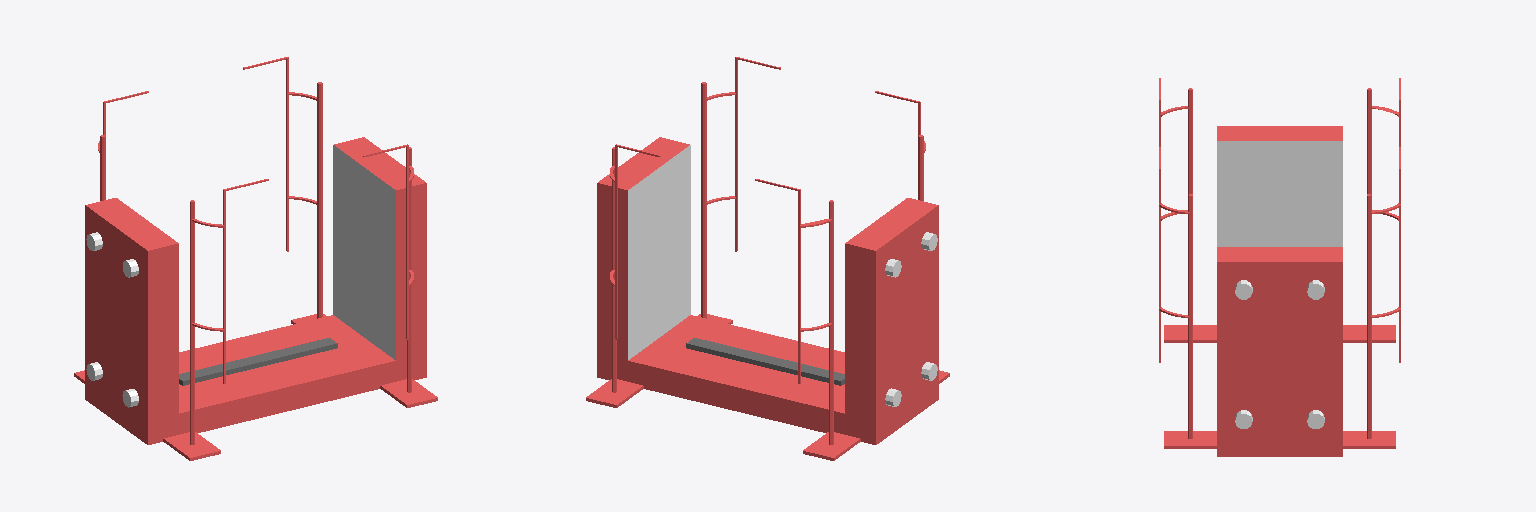
Rendered from 载货台.obj.
3 renders of one model, left to right at view 1: azimuth 30°, elevation 25°; view 2: azimuth 150°, elevation 25°; view 3: azimuth 270°, elevation 25°, orthographic.
Parts seen in each view (by area): view 1: Mesh27 XIANG10_1 ___20_1 Model, Mesh1 Box18450_1 ___20_1 Model, Mesh15 XIANG10_1 ___20_1 Model, Mesh19 XIANG10_1 ___20_1 Model, Mesh20 XIANG10_1 ___20_1 Model, Mesh24 XIANG10_1 ___20_1 Model, Mesh23 XIANG10_1 ___20_1 Model, Mesh30 Object180_1 ___20_1 Model, Mesh28 Object182_1 ___20_1 Model, Mesh10 Object179_1 ___20_1 Model; view 2: Mesh27 XIANG10_1 ___20_1 Model, Mesh1 Box18450_1 ___20_1 Model, Mesh23 XIANG10_1 ___20_1 Model, Mesh11 XIANG10_1 ___20_1 Model, Mesh12 XIANG10_1 ___20_1 Model, Mesh16 XIANG10_1 ___20_1 Model, Mesh15 XIANG10_1 ___20_1 Model, Mesh28 Object182_1 ___20_1 Model, Mesh30 Object180_1 ___20_1 Model, Mesh29 Object181_1 ___20_1 Model; view 3: Mesh27 XIANG10_1 ___20_1 Model, Mesh15 XIANG10_1 ___20_1 Model, Mesh23 XIANG10_1 ___20_1 Model, Mesh16 XIANG10_1 ___20_1 Model, Mesh24 XIANG10_1 ___20_1 Model, Mesh12 XIANG10_1 ___20_1 Model, Mesh20 XIANG10_1 ___20_1 Model, Mesh11 XIANG10_1 ___20_1 Model, Mesh19 XIANG10_1 ___20_1 Model.
Part boxes in pixels (x1,y1,x2,y2): Mesh27 XIANG10_1 ___20_1 Model: (85, 137, 426, 444); Mesh1 Box18450_1 ___20_1 Model: (179, 338, 337, 385); Mesh15 XIANG10_1 ___20_1 Model: (317, 82, 322, 318); Mesh19 XIANG10_1 ___20_1 Model: (190, 200, 194, 444); Mesh20 XIANG10_1 ___20_1 Model: (163, 432, 220, 460); Mesh24 XIANG10_1 ___20_1 Model: (380, 379, 437, 407); Mesh23 XIANG10_1 ___20_1 Model: (407, 147, 411, 392); Mesh30 Object180_1 ___20_1 Model: (363, 144, 408, 339); Mesh28 Object182_1 ___20_1 Model: (243, 57, 288, 251); Mesh10 Object179_1 ___20_1 Model: (223, 179, 268, 383); Mesh27 XIANG10_1 ___20_1 Model: (597, 137, 938, 444); Mesh1 Box18450_1 ___20_1 Model: (686, 338, 844, 385); Mesh23 XIANG10_1 ___20_1 Model: (701, 82, 706, 318); Mesh11 XIANG10_1 ___20_1 Model: (829, 200, 833, 444); Mesh12 XIANG10_1 ___20_1 Model: (803, 432, 860, 460); Mesh16 XIANG10_1 ___20_1 Model: (586, 379, 643, 407); Mesh15 XIANG10_1 ___20_1 Model: (612, 147, 616, 392); Mesh28 Object182_1 ___20_1 Model: (615, 144, 660, 339); Mesh30 Object180_1 ___20_1 Model: (735, 57, 780, 251); Mesh29 Object181_1 ___20_1 Model: (755, 179, 800, 383); Mesh27 XIANG10_1 ___20_1 Model: (1217, 126, 1342, 456); Mesh15 XIANG10_1 ___20_1 Model: (1367, 194, 1371, 438); Mesh23 XIANG10_1 ___20_1 Model: (1188, 194, 1192, 438); Mesh16 XIANG10_1 ___20_1 Model: (1343, 431, 1395, 448); Mesh24 XIANG10_1 ___20_1 Model: (1164, 431, 1216, 448); Mesh12 XIANG10_1 ___20_1 Model: (1343, 325, 1395, 342); Mesh20 XIANG10_1 ___20_1 Model: (1164, 325, 1216, 342); Mesh11 XIANG10_1 ___20_1 Model: (1367, 88, 1371, 194); Mesh19 XIANG10_1 ___20_1 Model: (1188, 88, 1192, 194).
Bounding box in the file's own units: 1274 × 1097 × 910.